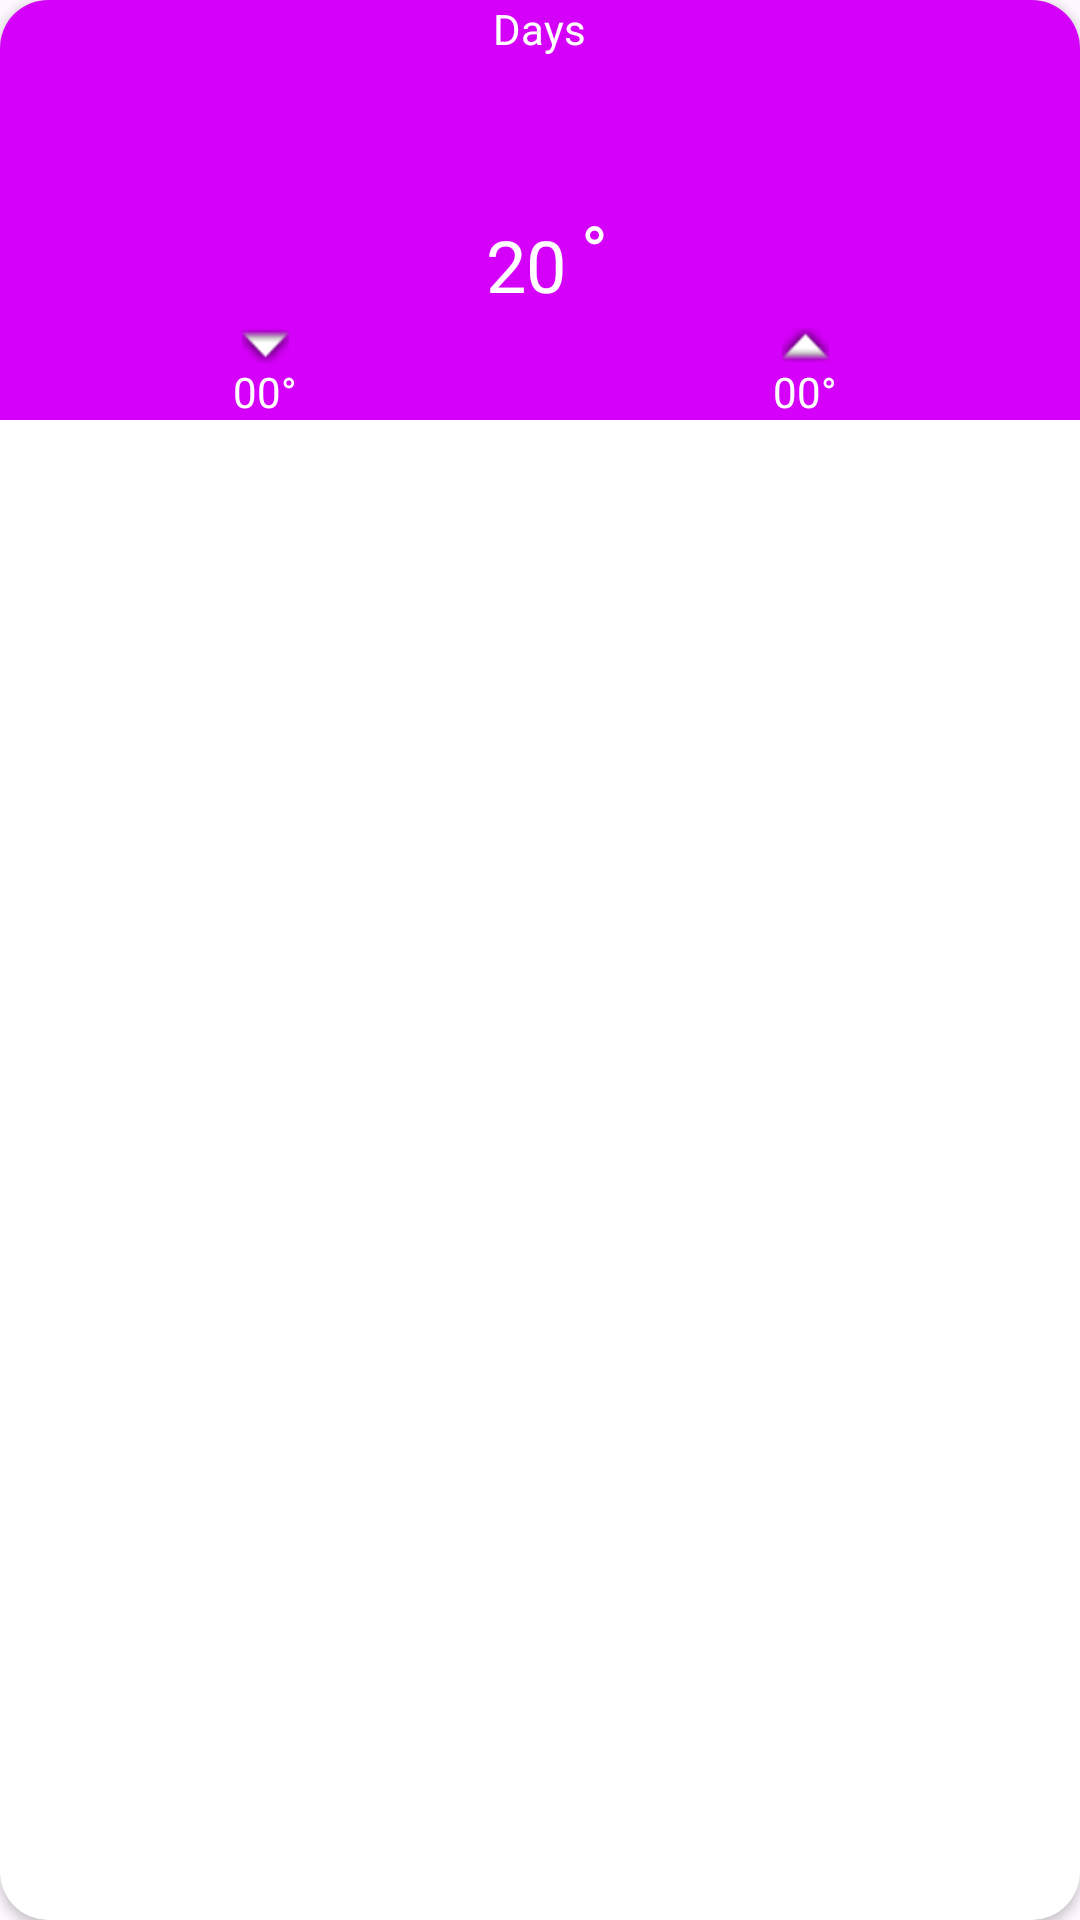

Icons on this 1080 × 1920 Android screen, each with the point to tap as point (x, y):
arrow down float: point (265, 346)
arrow up float: point (805, 345)
